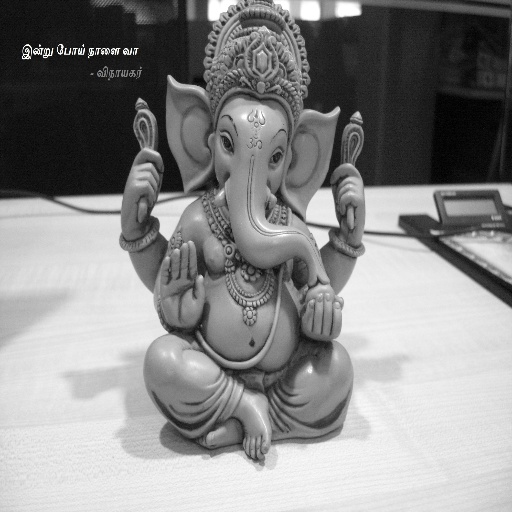hand: (117, 147, 166, 278), (158, 238, 205, 334), (329, 160, 366, 243), (297, 292, 344, 343)
